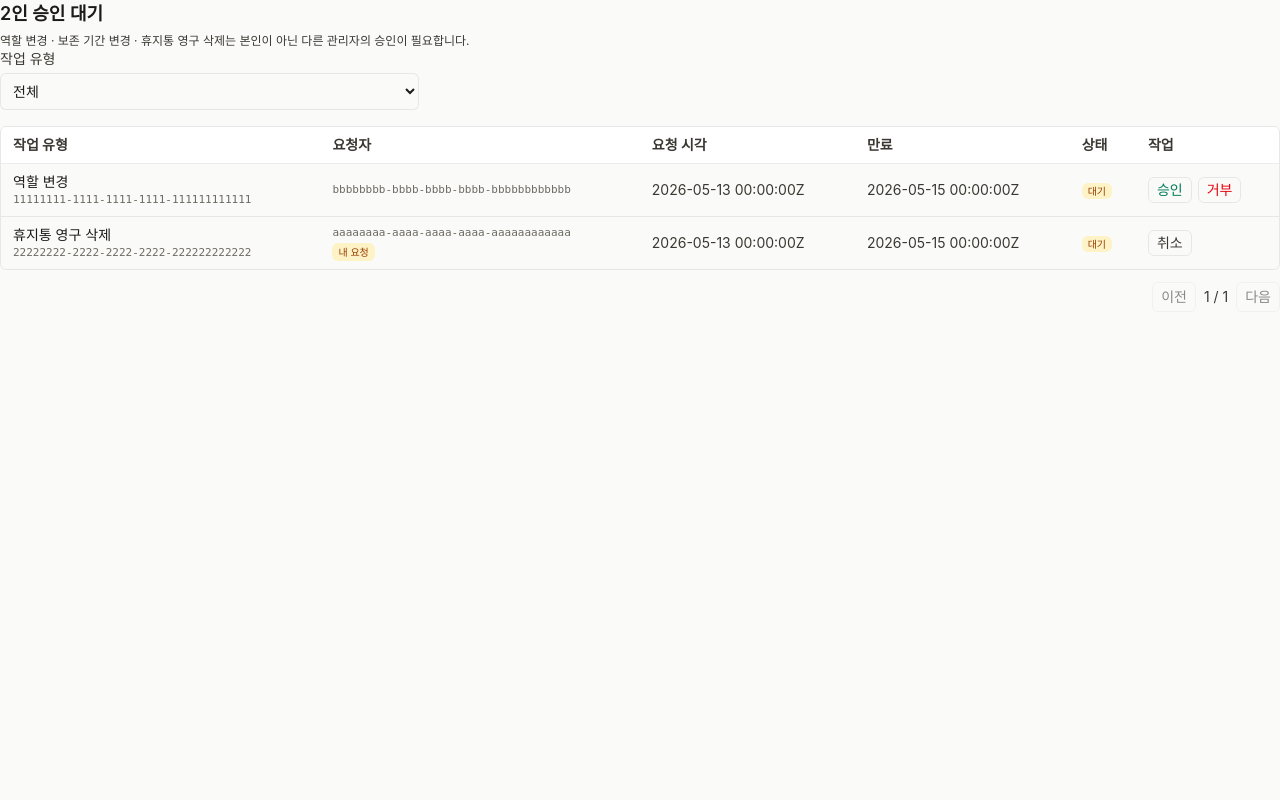
Test: AdminApprovalsPage — 렌더 + 필터 › 승인 클릭 → DecisionDialog (sender ≠ me)
Step 1. Click the button with aria-label "역할 변경 승인" → coordinates (1170, 190), box [1148, 177, 1192, 203]
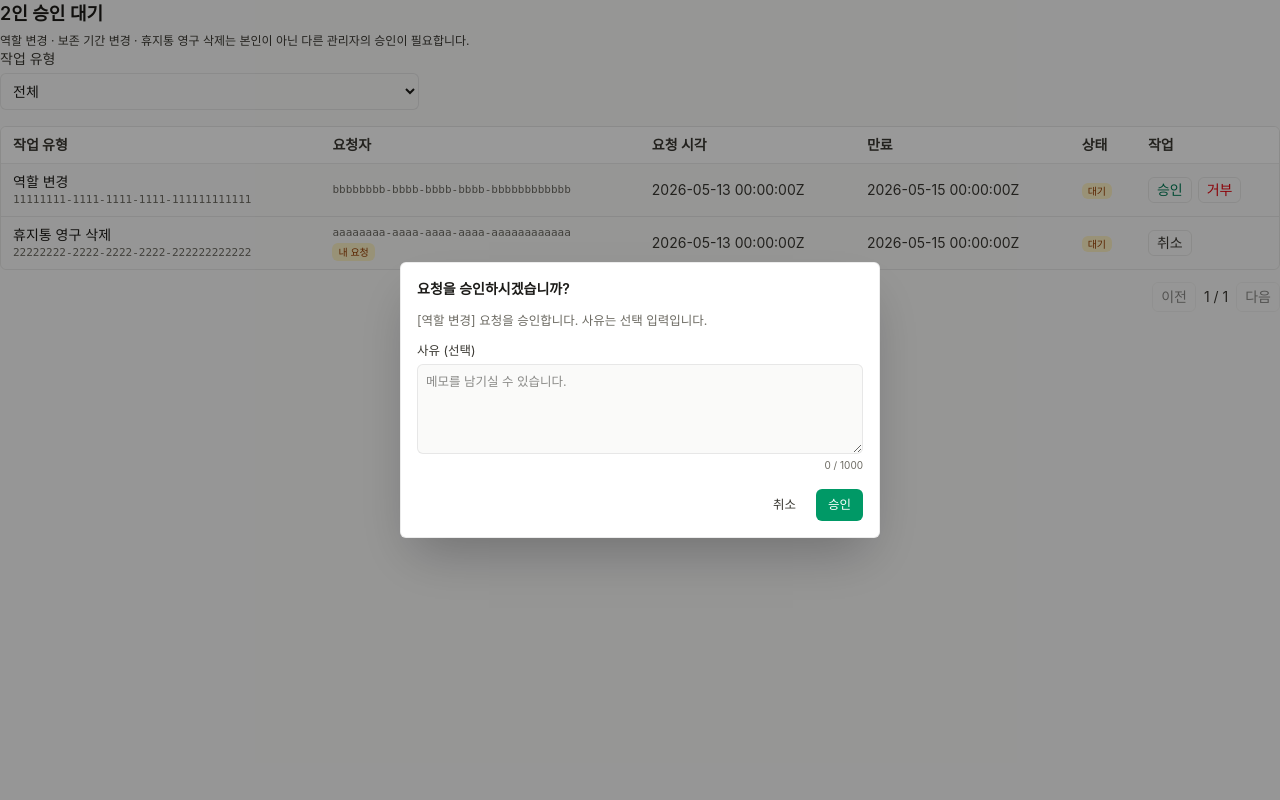
Expected: the dialog "요청을 승인" is shown
Expected: the button "승인" is enabled, [816, 489, 863, 521]
